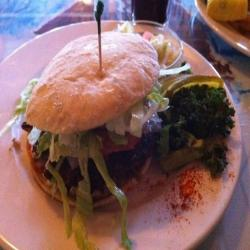burger: (18, 28, 162, 212), (165, 82, 223, 162)
